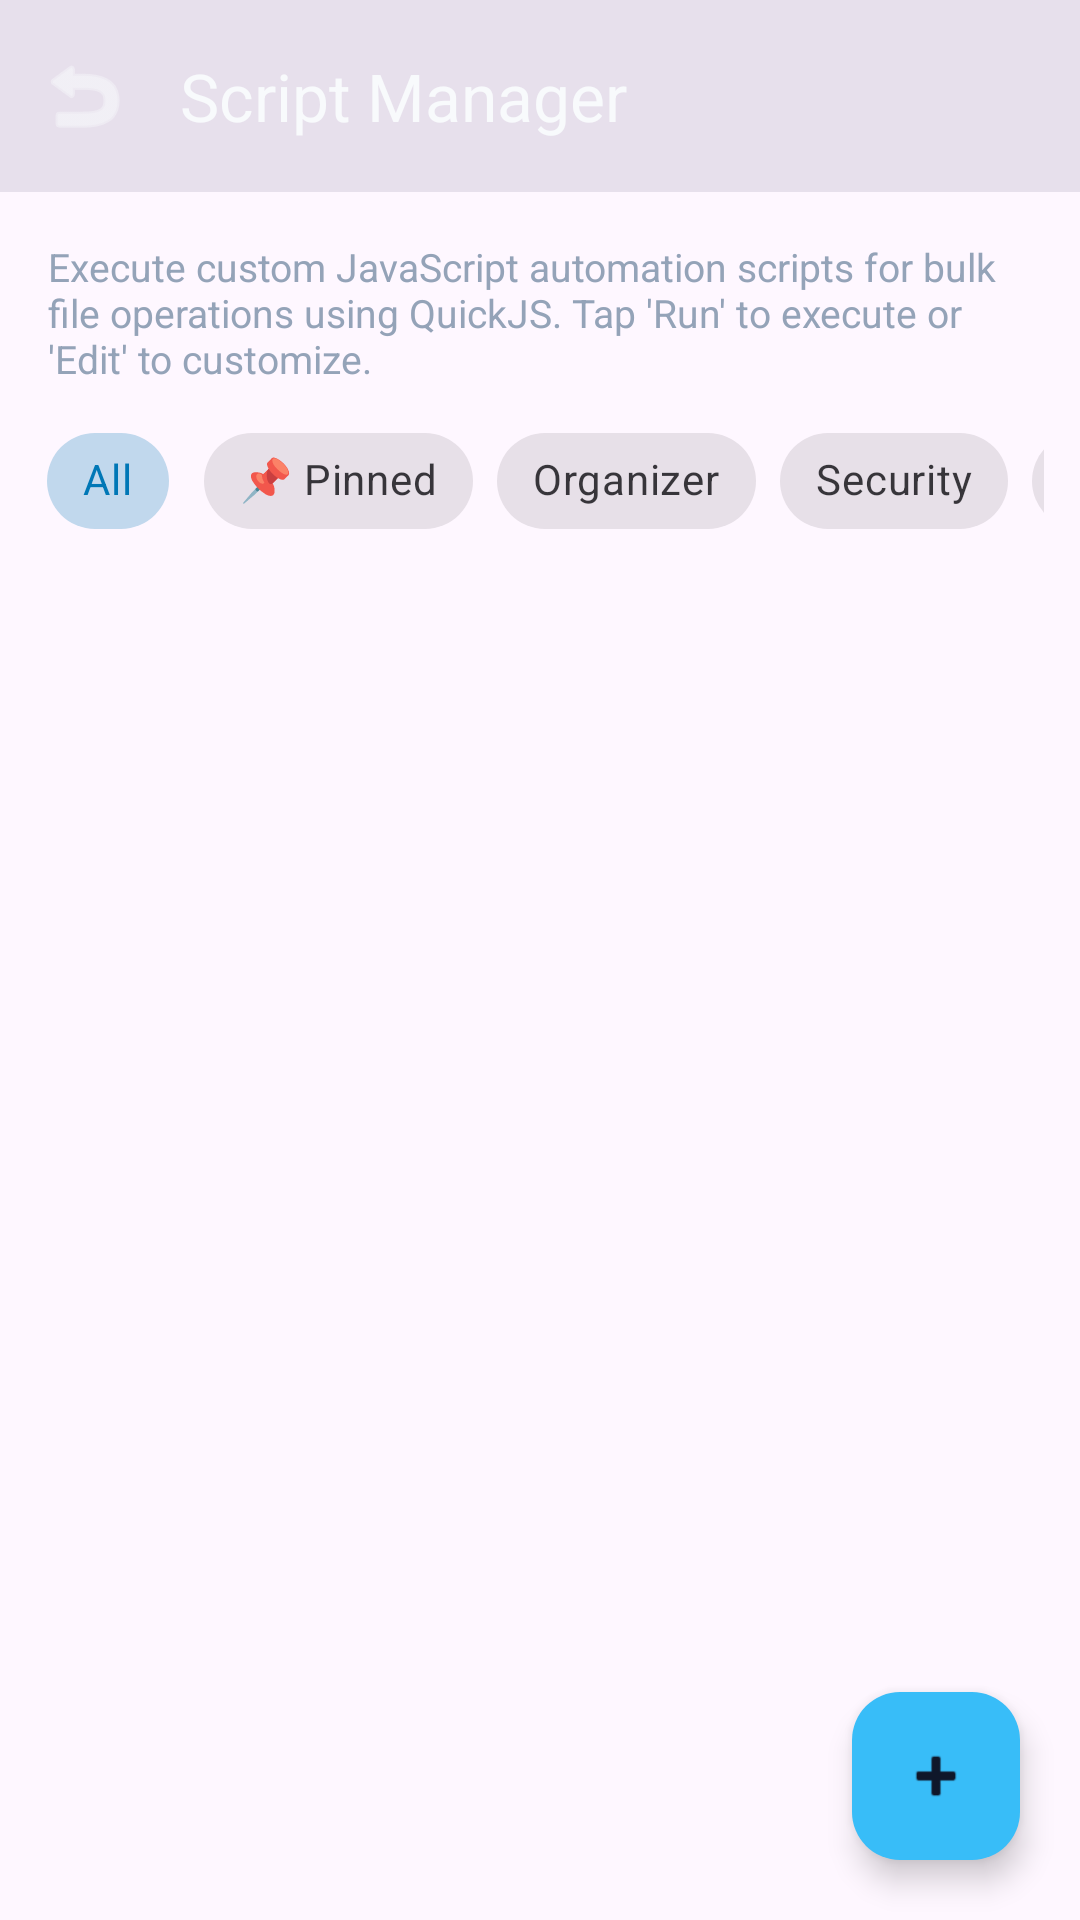

Named icons in this screenshot (1080*1920) and their bounding boxes, (x1, y1, x2, y2):
Create New Script: (852, 1692, 1020, 1860)
